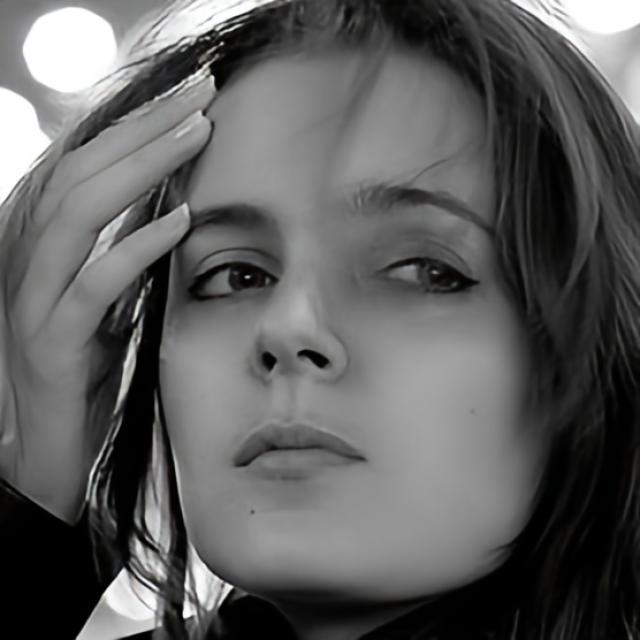sad: (153, 50, 545, 606)
